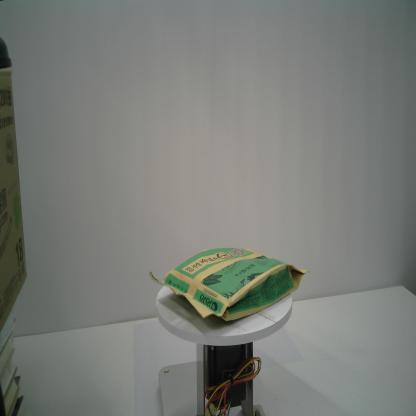Dried Food: (148, 246, 310, 324)
